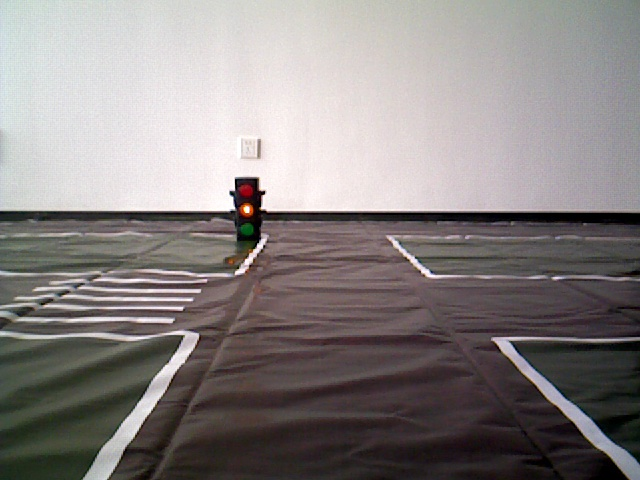yellow: (231, 177, 262, 241)
